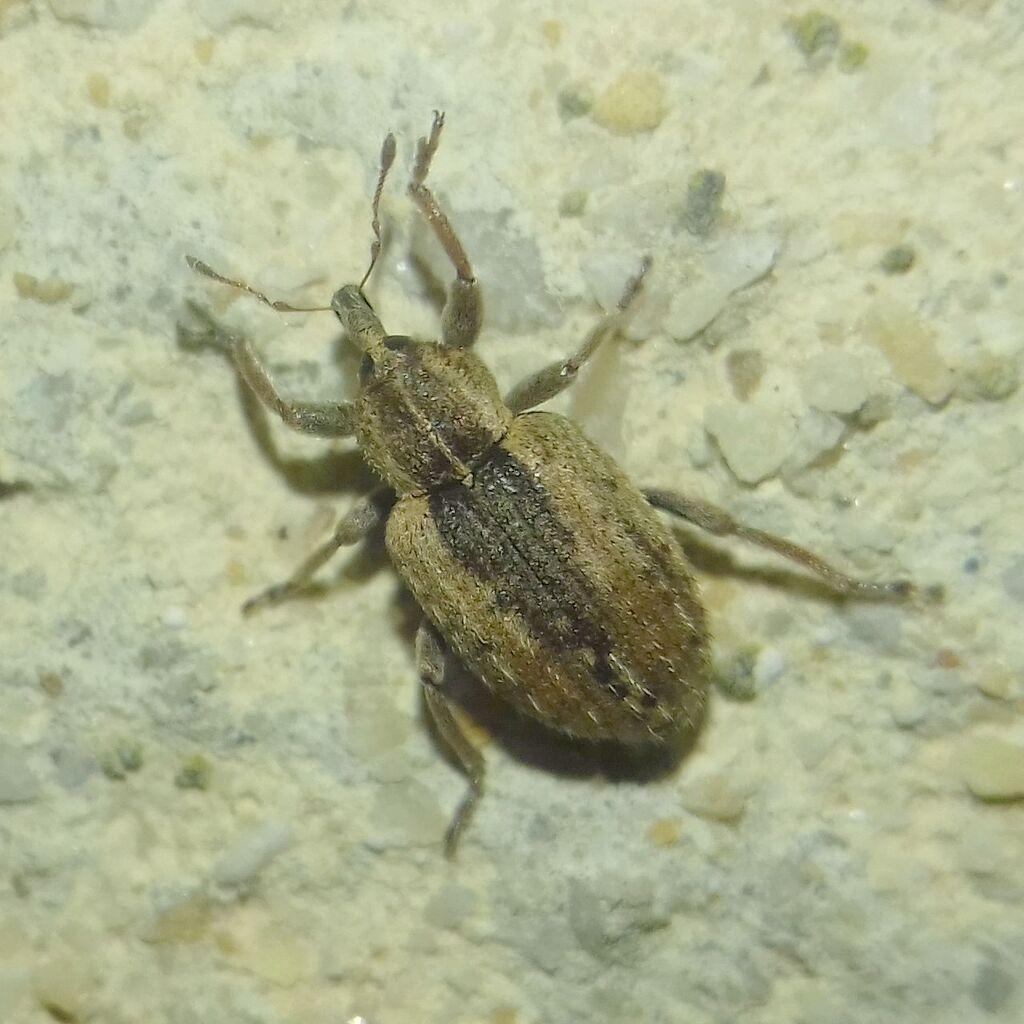weevils: (39, 33, 991, 997)
